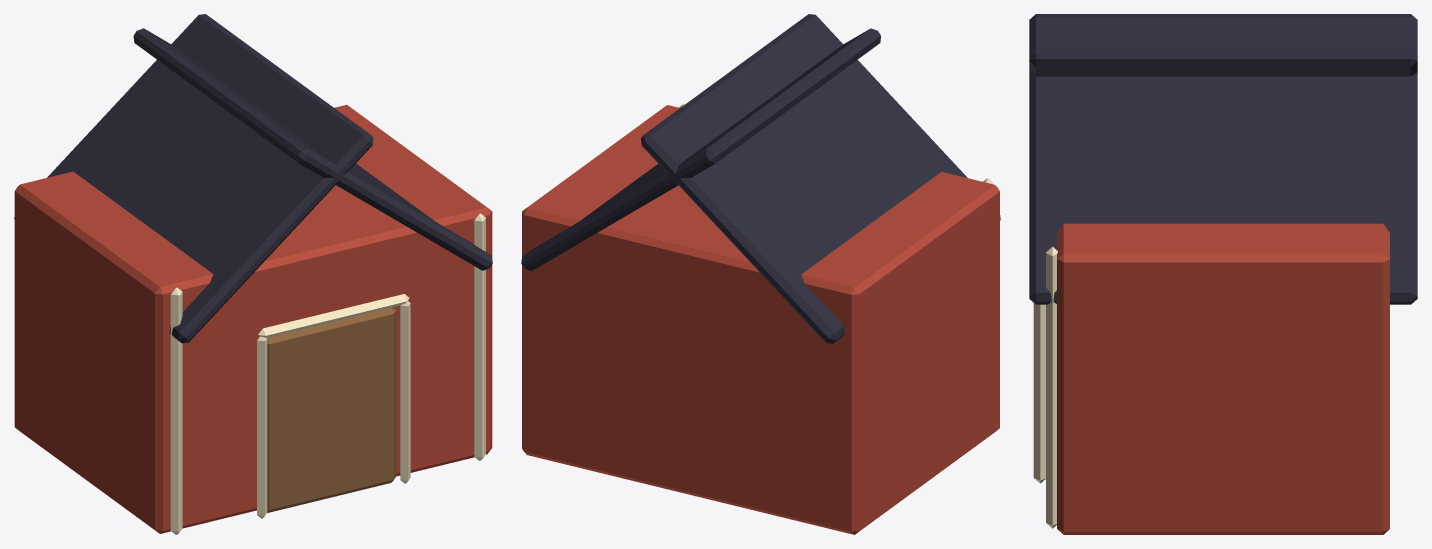
The model's file is barn.glb.
3 views of the same model, side by side, from view 1: azimuth 30°, elevation 25°; view 2: azimuth 150°, elevation 25°; view 3: azimuth 270°, elevation 25° (orthographic). The views are drawn at different scales.
Parts seen in each view (by area): view 1: barn.001; view 2: barn.001; view 3: barn.001.
Part boxes in pixels (x1,y1,x2,y2): barn.001: (14,14,492,534); barn.001: (521,14,1000,534); barn.001: (1029,14,1417,534).
Size of the model in its own units: 4 by 4.09 by 3.5.
